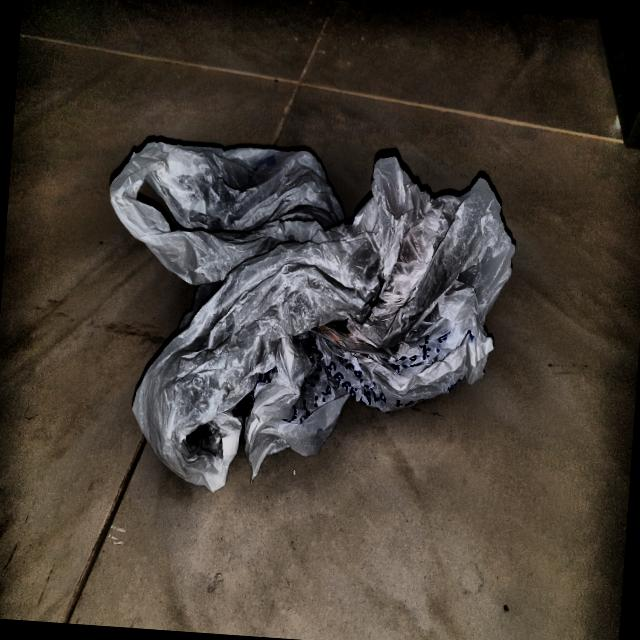plastic bag: (78, 108, 542, 526)
